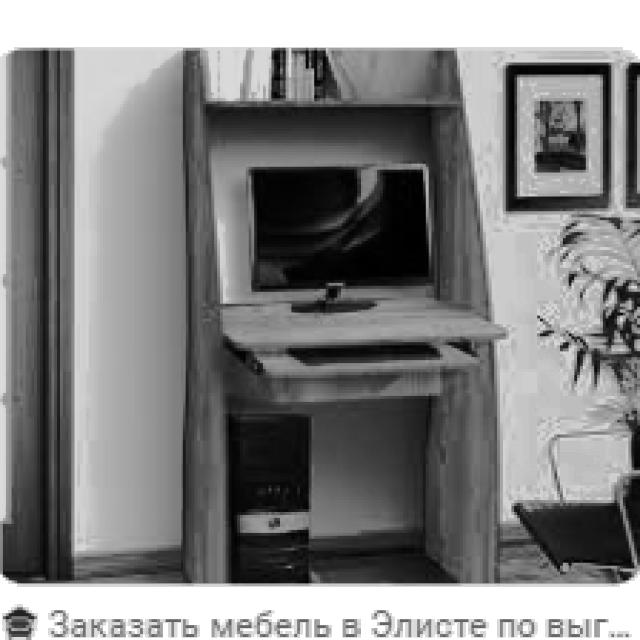table: (217, 301, 506, 584)
